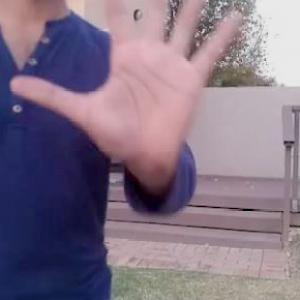follow_hand: (9, 0, 245, 176)
